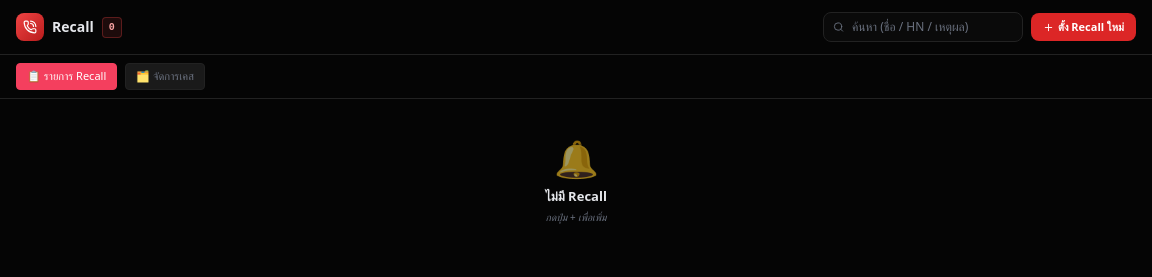
Test: Phase 29.22 · L10 — RecallTab sub-pill (admin) › L10.2 click "จัดการเคส" pill renders admin panel
Click the button with test id "recall-subpill-cases": (165, 76) [125, 63, 205, 90]
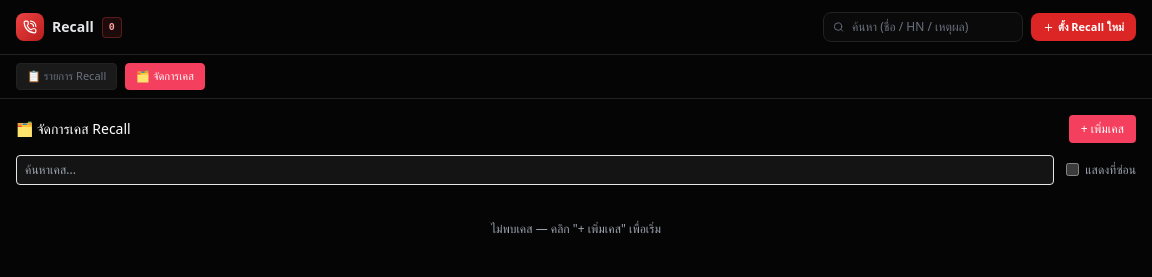
Check: the element with test id "recall-cases-admin-panel" is shown, box [16, 114, 1136, 260]
